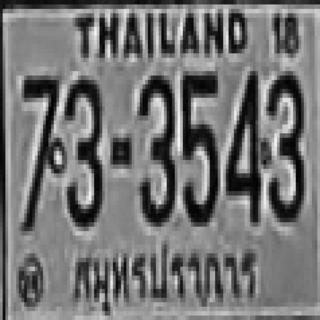N03: (137, 71, 175, 222), (63, 74, 101, 224), (265, 69, 303, 216)
N04: (223, 67, 261, 222)
N05: (180, 71, 218, 222)
N07: (21, 73, 59, 229), (21, 71, 59, 178)
P57: (67, 237, 268, 314)
